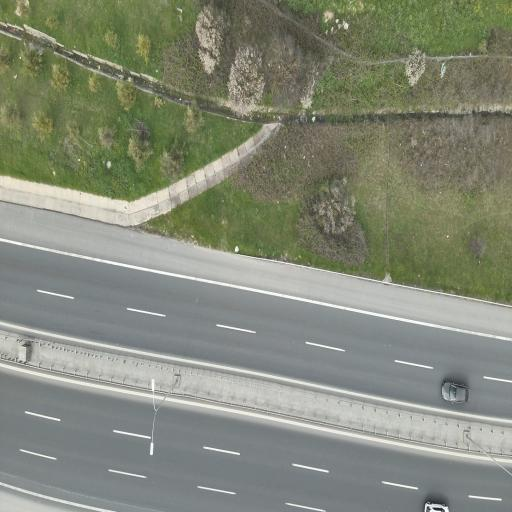car: (441, 381, 468, 402), (424, 501, 448, 511)
